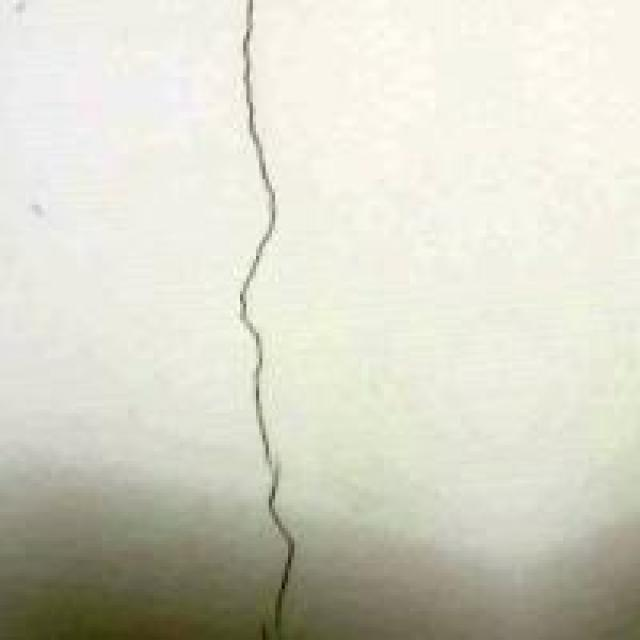Crack: (186, 0, 362, 637)
